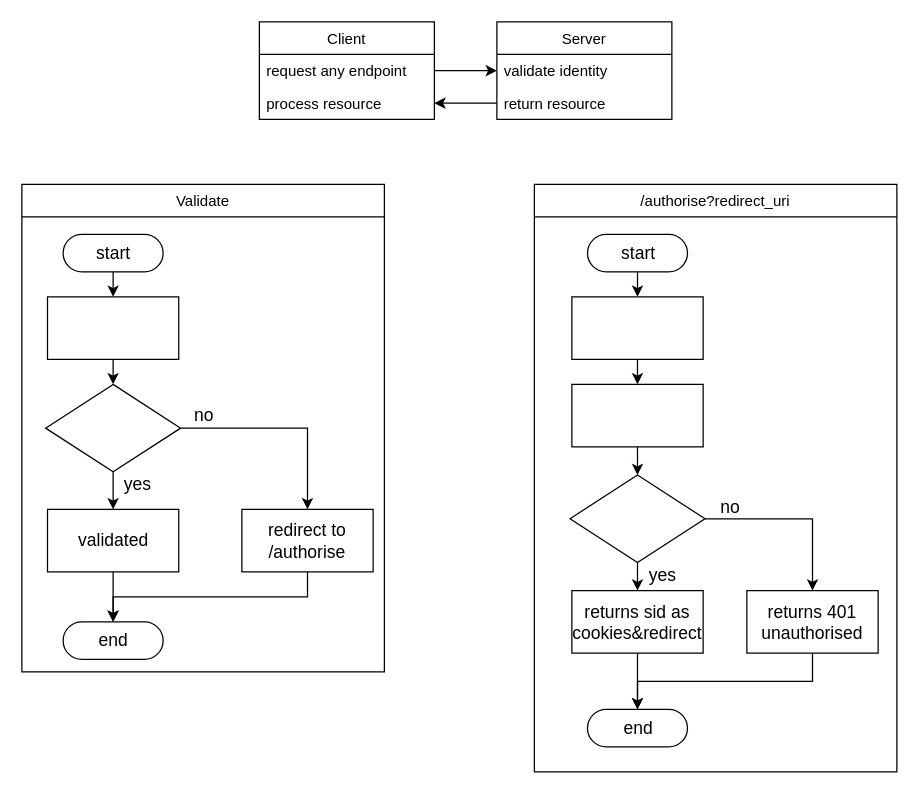
The diagram is 919 pixels wide and 794 high, and some of its shapes have lost their labels. The centre of each missing label's shape, as x and y in pixels:
"Displays login form" goes at (637,327).
"extracts cookies" goes at (112,327).
"if credentials valid" goes at (637,518).
"if sid valid" goes at (112,427).
"POST cid and secret" goes at (637,415).
